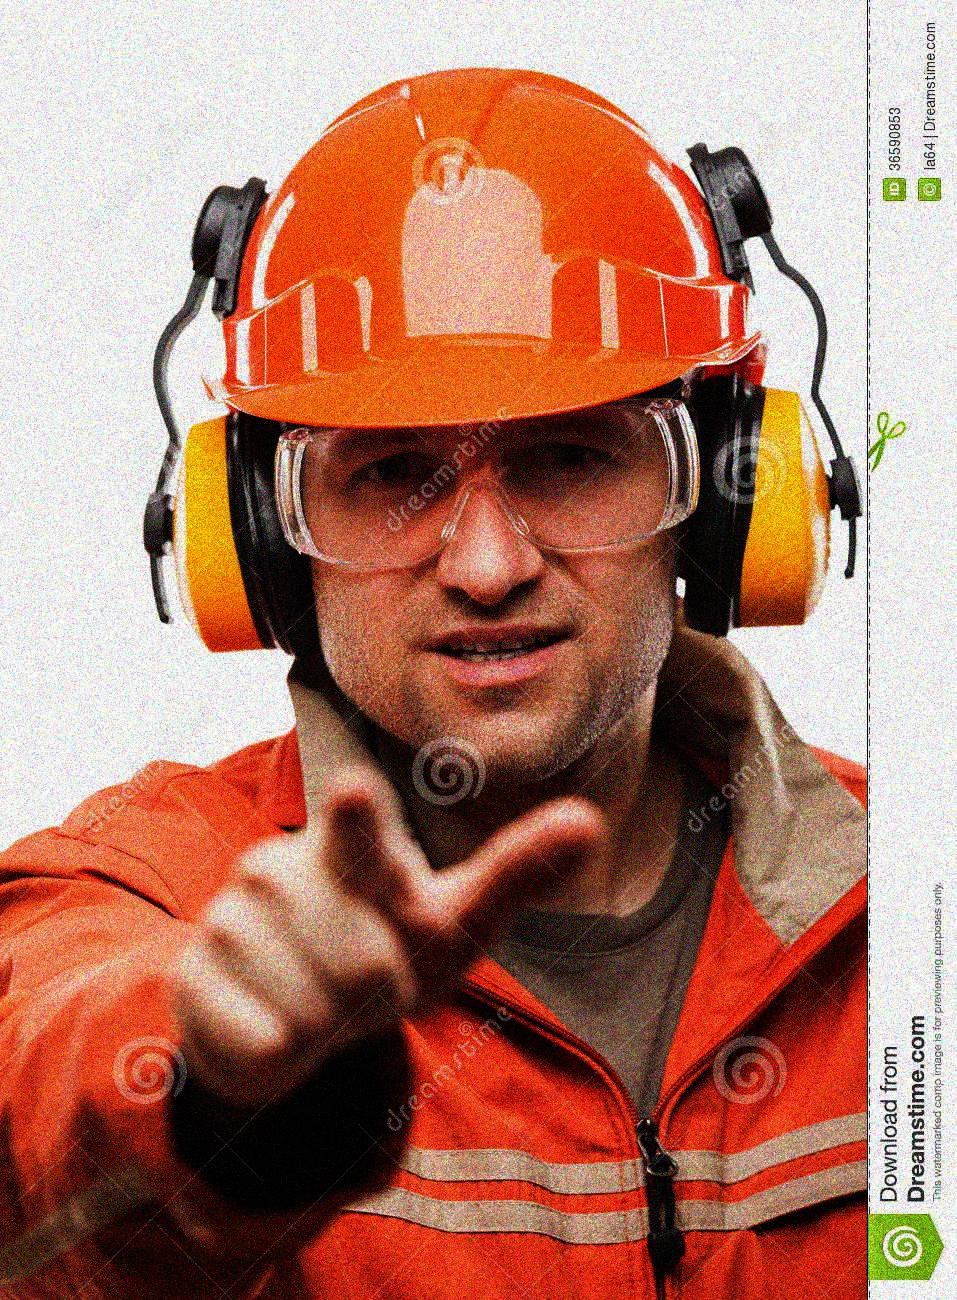helmet: (213, 58, 756, 784)
